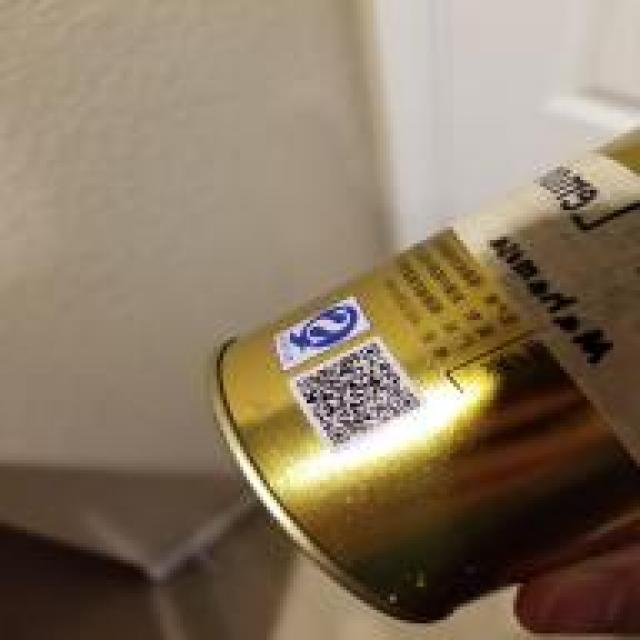QR_CODE: (283, 326, 430, 452)
